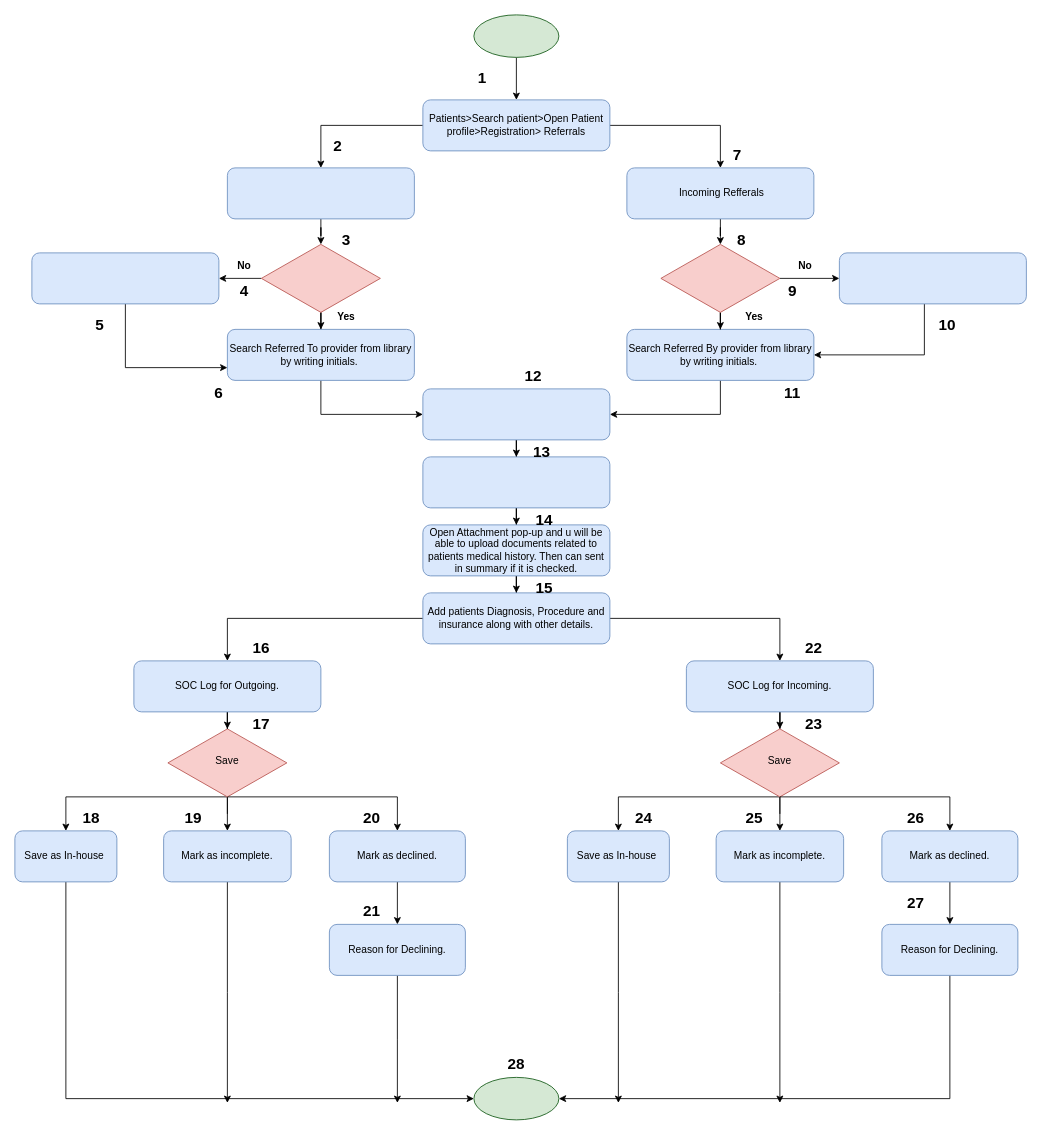
This 1041x1135 diagram has some shape labels left out. The shapes that lost their labels are listed below. From the top down, each one's box as (x1, y1, x2, y2) in pixels, then its label:
(473, 14, 559, 57): Start
(227, 167, 414, 219): Outgoing Referrals
(31, 252, 219, 304): Edit the following information for outgoing referral in same pattern.
(261, 244, 380, 312): New Outgoing Referral??
(660, 244, 780, 312): New Incoming Referral??
(839, 252, 1026, 304): Edit the following information for incoming referral in same pattern.
(422, 388, 610, 440): Search Referral Reason from library by writing initials.
(422, 456, 610, 508): Select Provider from dropdown.
(473, 1077, 559, 1120): END
